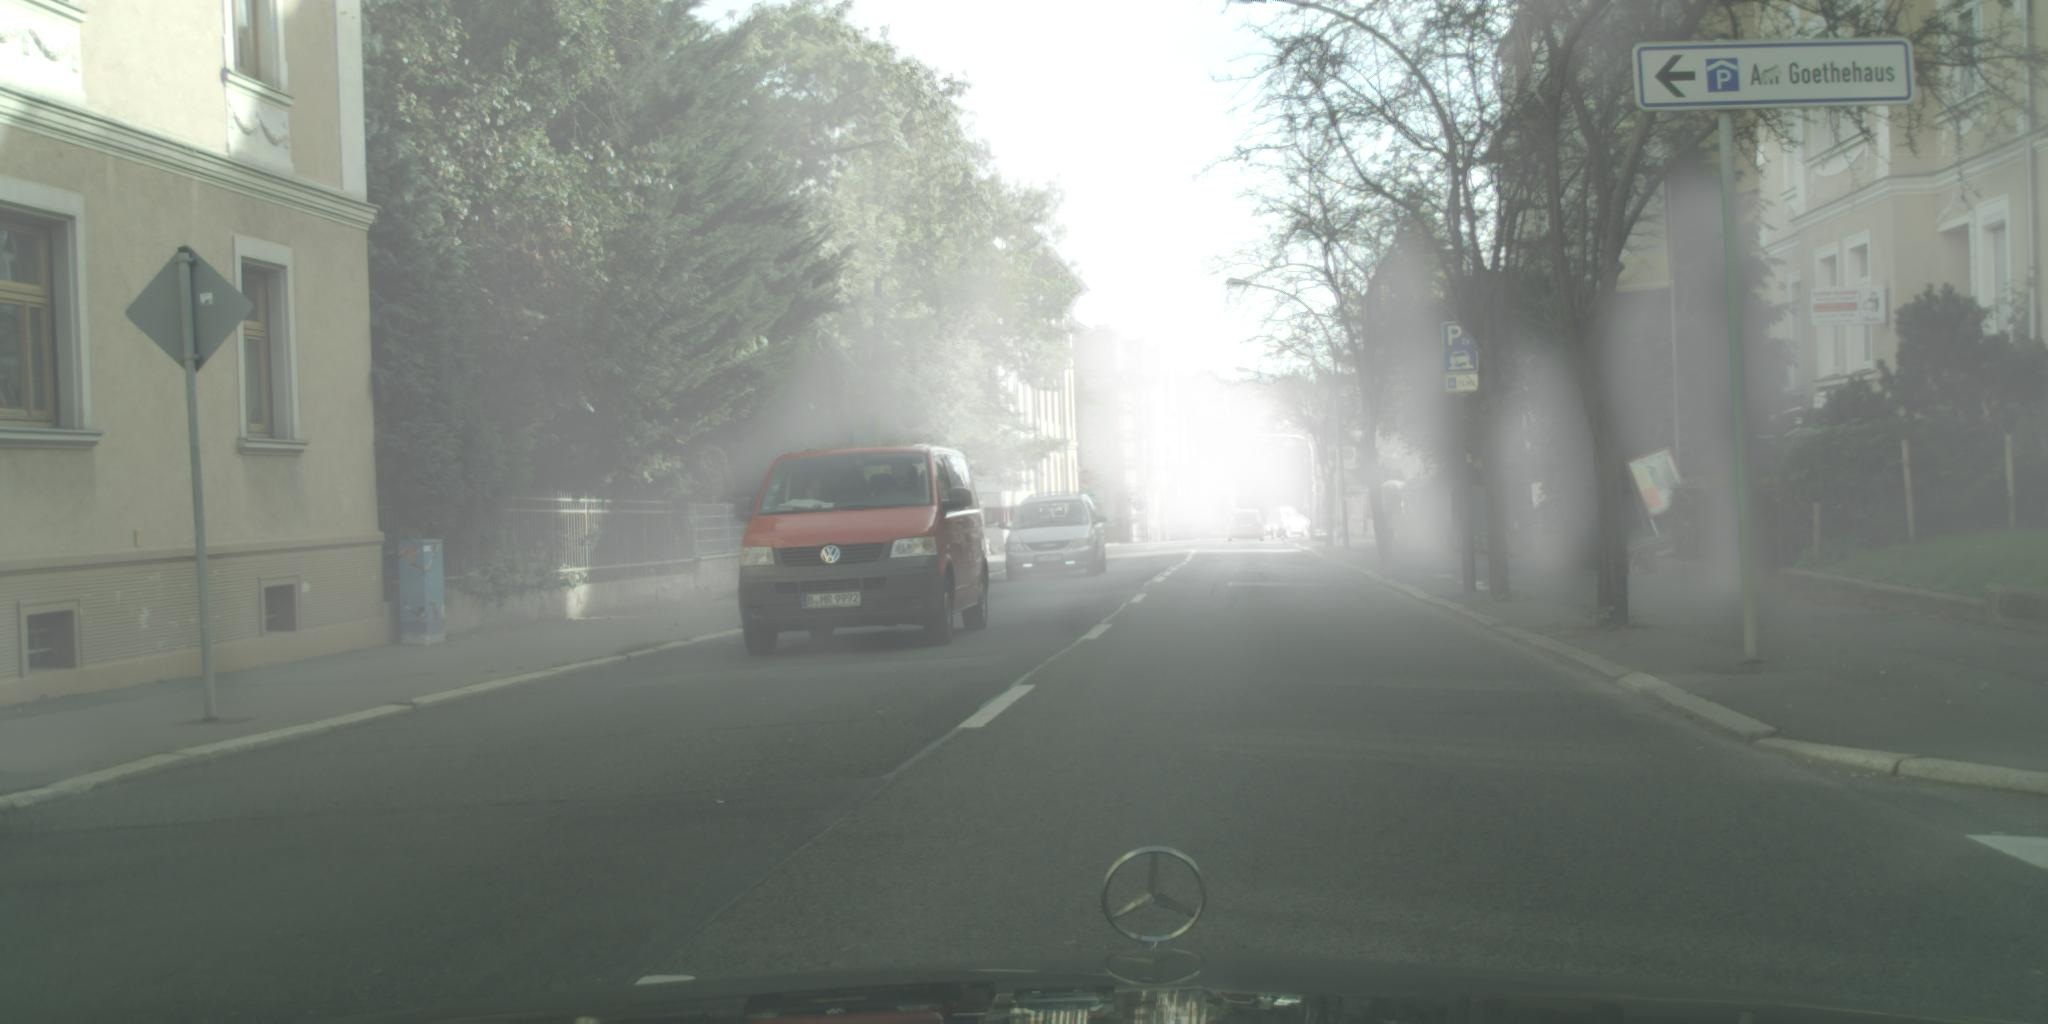car: (735, 445, 993, 660), (1000, 495, 1108, 585), (1236, 495, 1311, 539), (1225, 509, 1266, 543), (1170, 522, 1196, 542)
